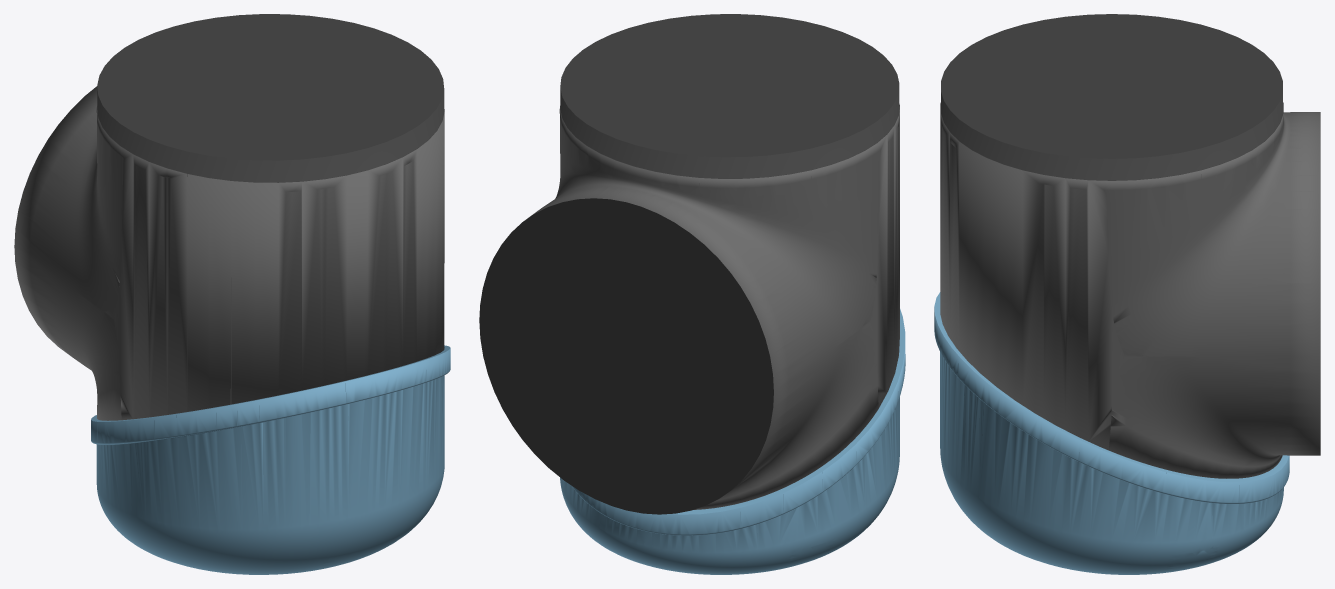
File: wrist2.glb
The picture shows the model from 3 angles, left to right: view 1: azimuth 30°, elevation 25°; view 2: azimuth 150°, elevation 25°; view 3: azimuth 270°, elevation 25°; orthographic projection. The views are drawn at different scales.
Visible parts, largest first — view 1: /Actor0/ActorShape0_0-Mesh_026-mesh/1, /Actor1/ActorShape1_0-Mesh_020-mesh/0, /Actor0/ActorShape0_0-Mesh_026-mesh/0; view 2: /Actor0/ActorShape0_0-Mesh_026-mesh/0, /Actor0/ActorShape0_0-Mesh_026-mesh/1, /Actor1/ActorShape1_0-Mesh_020-mesh/0; view 3: /Actor0/ActorShape0_0-Mesh_026-mesh/1, /Actor0/ActorShape0_0-Mesh_026-mesh/0, /Actor1/ActorShape1_0-Mesh_020-mesh/0.
Boxes of the visible parts, x1,y1,x2,y2 form: /Actor0/ActorShape0_0-Mesh_026-mesh/1: (14, 86, 444, 420); /Actor1/ActorShape1_0-Mesh_020-mesh/0: (91, 345, 450, 574); /Actor0/ActorShape0_0-Mesh_026-mesh/0: (96, 14, 444, 182); /Actor0/ActorShape0_0-Mesh_026-mesh/0: (479, 14, 899, 514); /Actor0/ActorShape0_0-Mesh_026-mesh/1: (527, 107, 899, 509); /Actor1/ActorShape1_0-Mesh_020-mesh/0: (560, 309, 905, 574); /Actor0/ActorShape0_0-Mesh_026-mesh/1: (940, 112, 1320, 478); /Actor0/ActorShape0_0-Mesh_026-mesh/0: (940, 14, 1283, 180); /Actor1/ActorShape1_0-Mesh_020-mesh/0: (934, 292, 1289, 574).
Size of the model in its own units: 0.0775 by 0.1047 by 0.0842.
